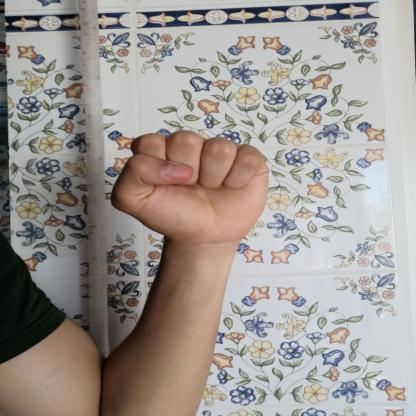SAD: (94, 122, 286, 253)
